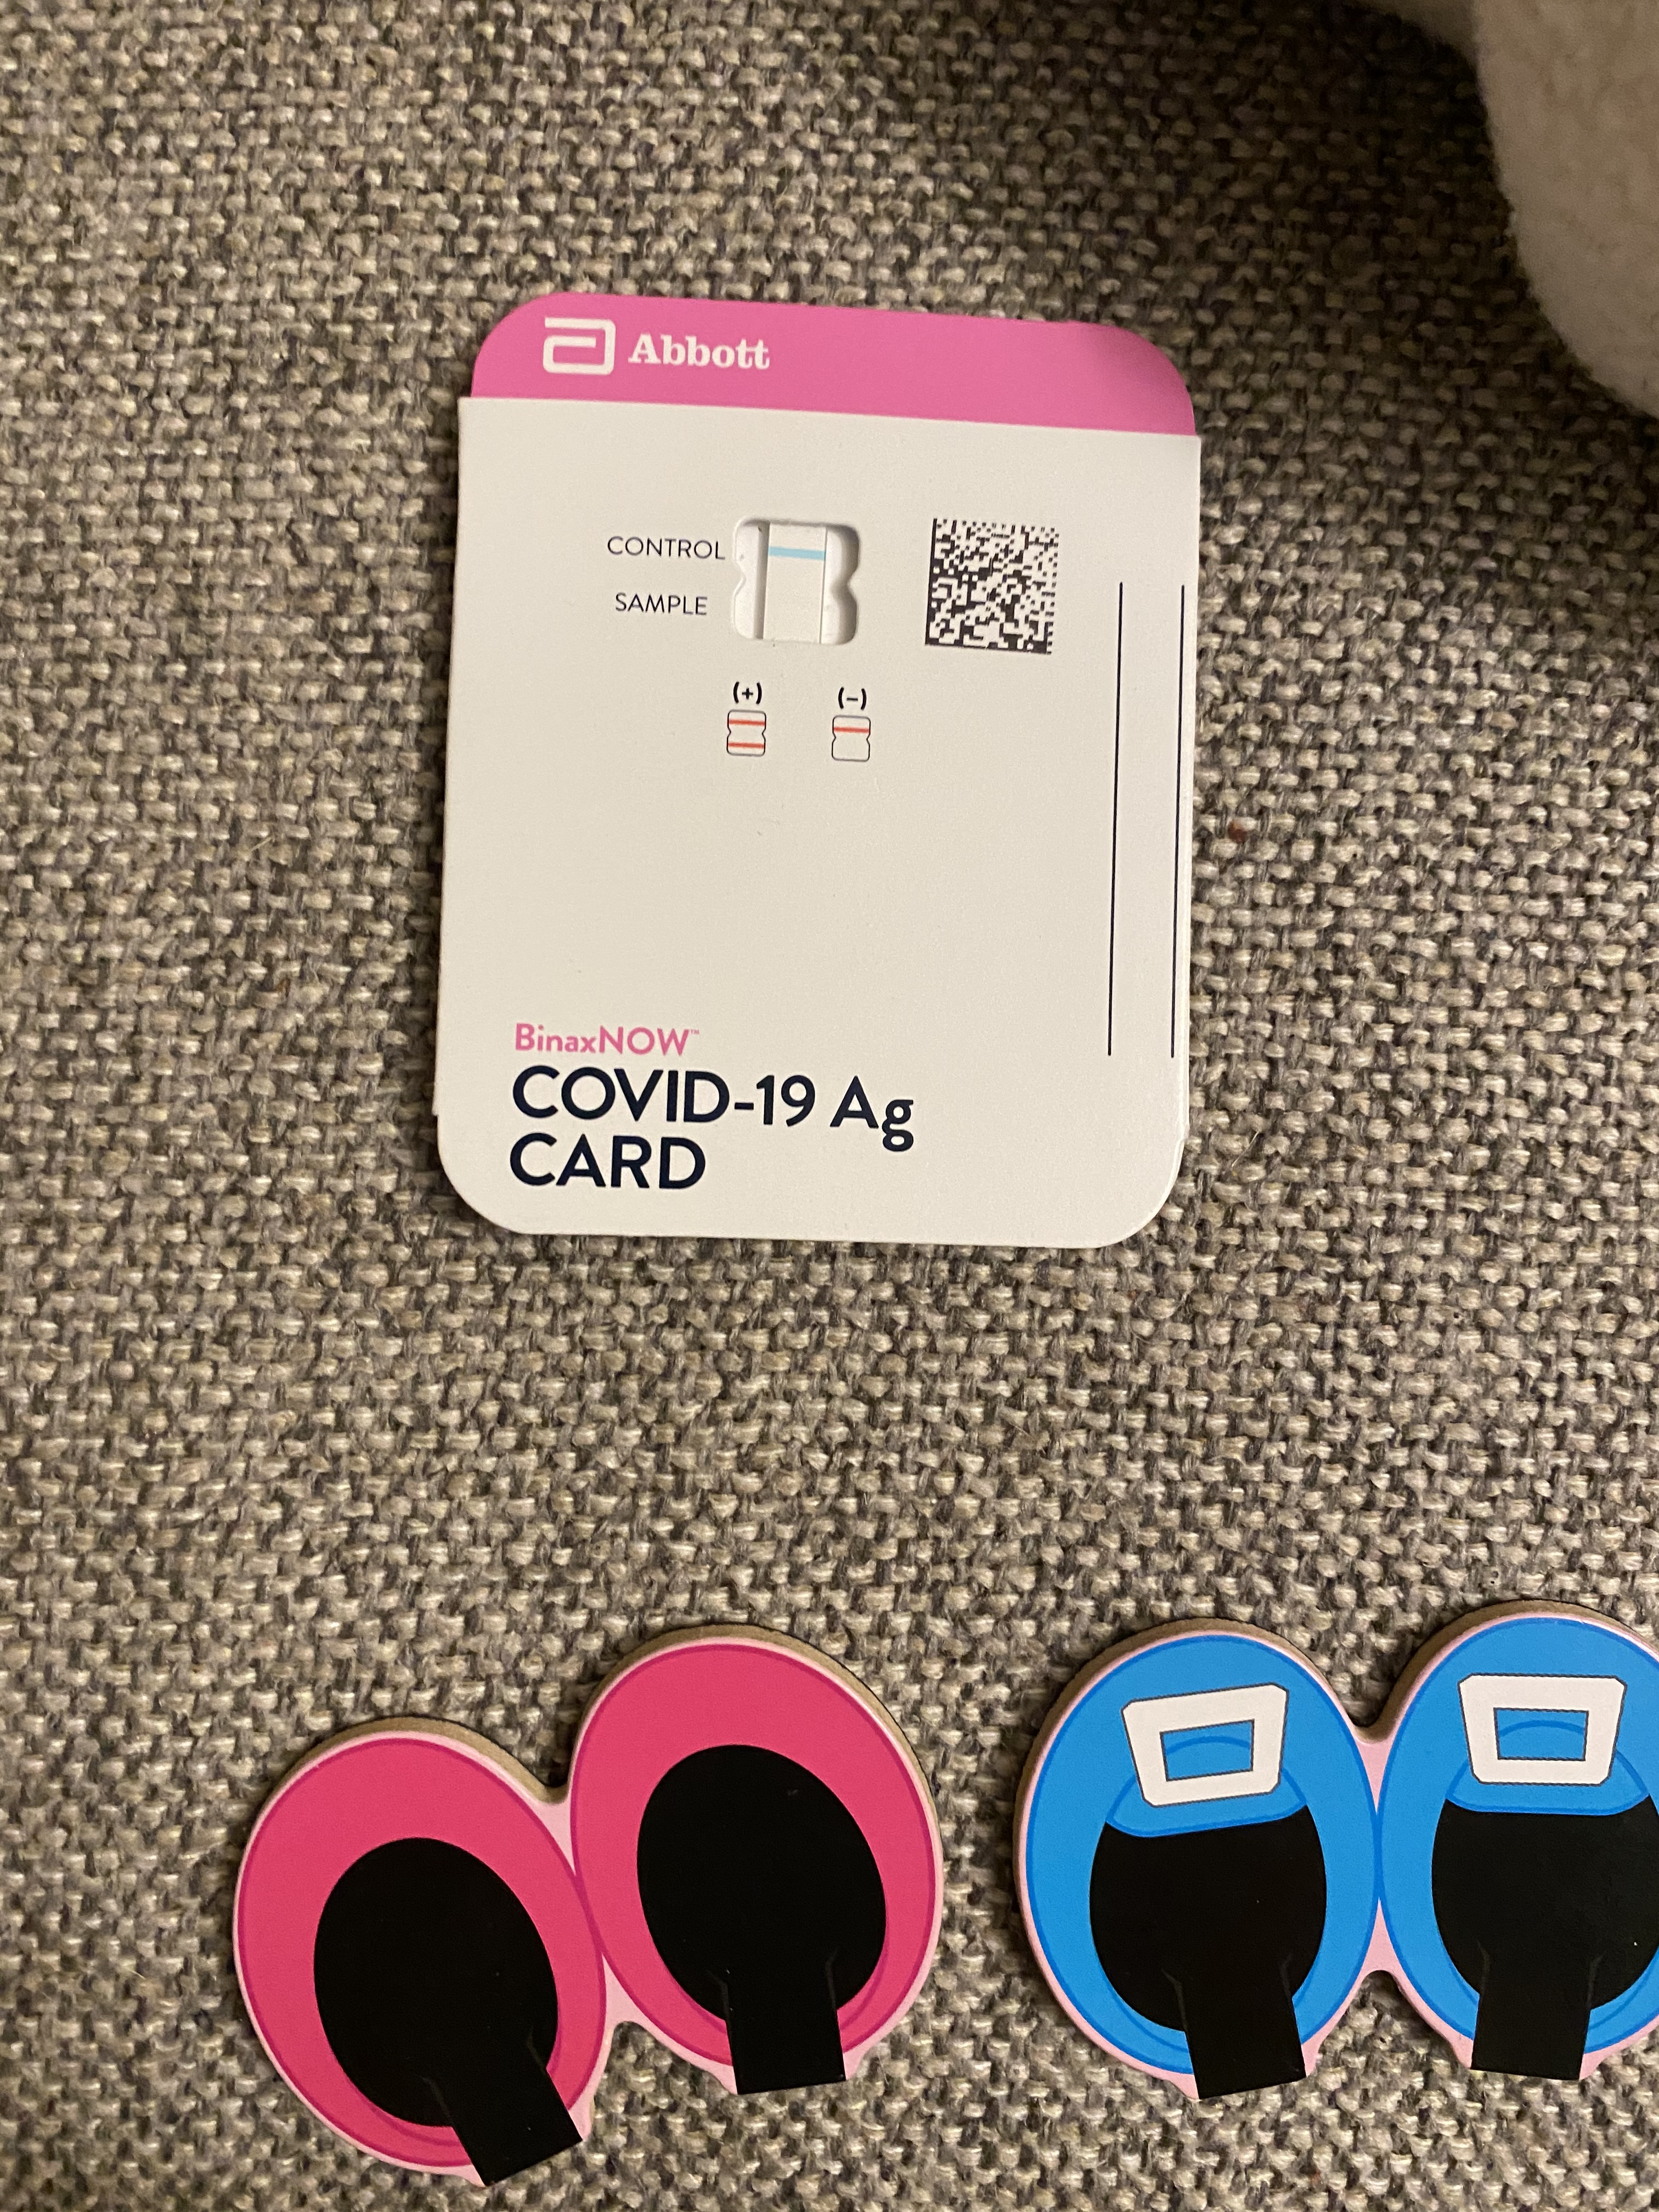binax: (429, 277, 1218, 1268)
